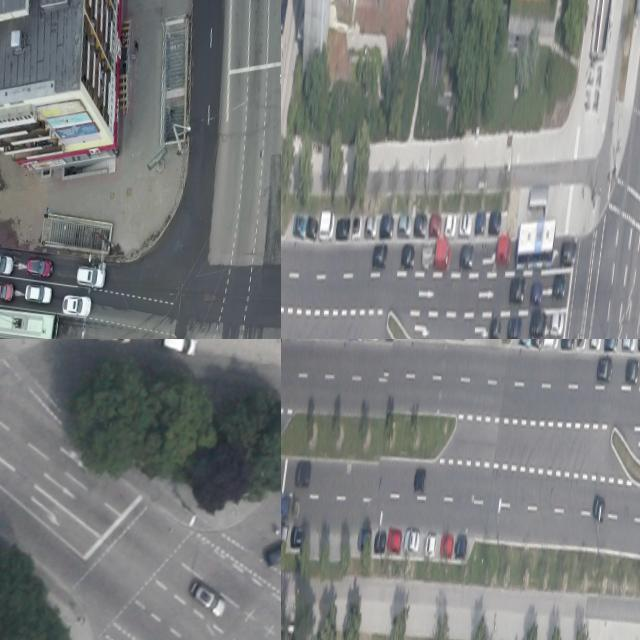UAI: (186, 578, 231, 620), (61, 293, 93, 318), (25, 255, 54, 280), (76, 264, 106, 288), (24, 282, 53, 306), (262, 534, 281, 569), (434, 238, 453, 271), (495, 233, 513, 267), (160, 339, 198, 355), (529, 307, 547, 339), (318, 209, 336, 240), (560, 237, 577, 268), (509, 275, 527, 304), (459, 241, 476, 271), (551, 270, 567, 301), (372, 241, 389, 270), (294, 460, 312, 487), (597, 355, 614, 382), (379, 211, 395, 239), (549, 310, 565, 337), (400, 242, 416, 269), (592, 494, 607, 522), (506, 315, 523, 339), (404, 529, 421, 553), (414, 212, 429, 239), (428, 211, 443, 238), (459, 210, 474, 237), (453, 532, 468, 559), (624, 358, 640, 383), (0, 250, 15, 276), (336, 216, 352, 240), (530, 280, 544, 307), (305, 214, 319, 241), (444, 211, 458, 238), (488, 209, 502, 236), (293, 213, 308, 238), (398, 211, 413, 236), (388, 528, 403, 553), (357, 527, 372, 552), (474, 208, 487, 236), (425, 531, 438, 559), (364, 214, 378, 239), (440, 533, 454, 558), (374, 528, 388, 553), (413, 467, 427, 492), (488, 315, 502, 339), (0, 278, 14, 301), (421, 246, 434, 270), (351, 214, 363, 240), (290, 523, 303, 547), (281, 490, 290, 519), (281, 0, 288, 35), (281, 522, 290, 546), (603, 339, 619, 352), (291, 498, 301, 518), (97, 339, 133, 344), (543, 339, 560, 349), (622, 339, 637, 350), (561, 339, 576, 349), (530, 339, 544, 348), (590, 339, 602, 348), (517, 339, 532, 346), (577, 339, 587, 348)
car: (515, 213, 558, 275), (0, 305, 59, 339)
